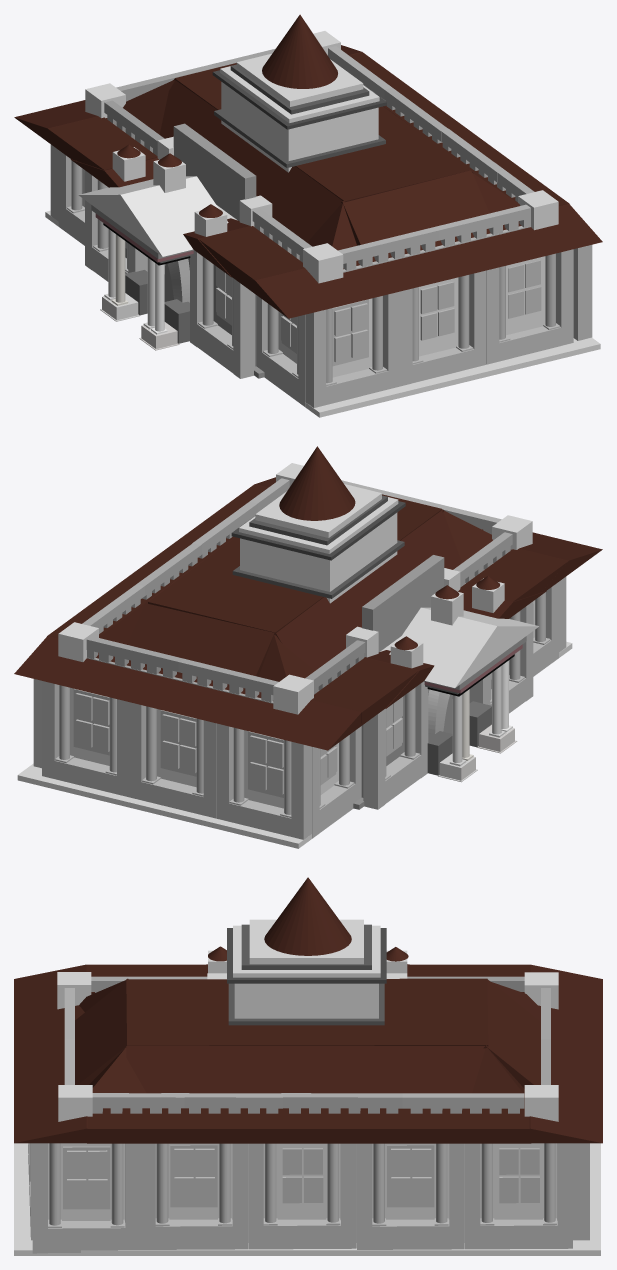
Rendered from Bank Indonesia Color.fbx.
The picture shows the model from 3 angles, top to bottom: view 1: azimuth 30°, elevation 25°; view 2: azimuth 150°, elevation 25°; view 3: azimuth 270°, elevation 25°; orthographic projection. The views are drawn at different scales.
Visible parts, largest first — view 1: roof14, window9, topside, mainbody, roof11, window10, window8, roof12, window2, roof1, top3, pillar.002 (+41 smaller); view 2: roof15, window7, topside, window6, window5, roof11, roof13, window1, mainbody, roof1, top3, topwall (+41 smaller); view 3: topside, roof10, mainbody, roof16.001, window9.001, window10.002, window10.001, window8.001, window8.002, roof15, roof14, top3 (+26 smaller).
Part boxes in pixels (x1,y1,x2,y2): roof14: [227, 203, 602, 318]; window9: [305, 291, 400, 407]; topside: [174, 63, 470, 202]; mainbody: [45, 168, 600, 417]; roof11: [159, 80, 343, 242]; window10: [400, 270, 486, 386]; window8: [486, 249, 573, 364]; roof12: [341, 170, 490, 260]; window2: [190, 250, 254, 378]; roof1: [78, 176, 228, 256]; top3: [221, 82, 378, 172]; pillar.002: [100, 229, 179, 350]; roof15: [14, 635, 389, 750]; window7: [216, 723, 311, 839]; topside: [148, 494, 442, 635]; window6: [129, 702, 216, 818]; window5: [42, 681, 129, 797]; roof11: [276, 510, 461, 670]; roof13: [127, 600, 274, 690]; window1: [363, 681, 428, 809]; mainbody: [17, 600, 572, 848]; roof1: [389, 607, 538, 687]; top3: [240, 512, 397, 603]; topwall: [362, 555, 444, 652]; topside: [126, 978, 488, 1046]; roof10: [126, 1046, 485, 1093]; mainbody: [14, 1143, 600, 1255]; roof16.001: [87, 1107, 531, 1143]; window9.001: [32, 1143, 140, 1253]; window10.002: [356, 1143, 464, 1249]; window10.001: [140, 1143, 247, 1249]; window8.001: [248, 1143, 356, 1249]; window8.002: [465, 1143, 572, 1249]; roof15: [529, 964, 602, 1143]; roof14: [14, 964, 92, 1143]; top3: [234, 983, 378, 1018].
Size of the model in its own units: 3620 by 2750 by 4984.
